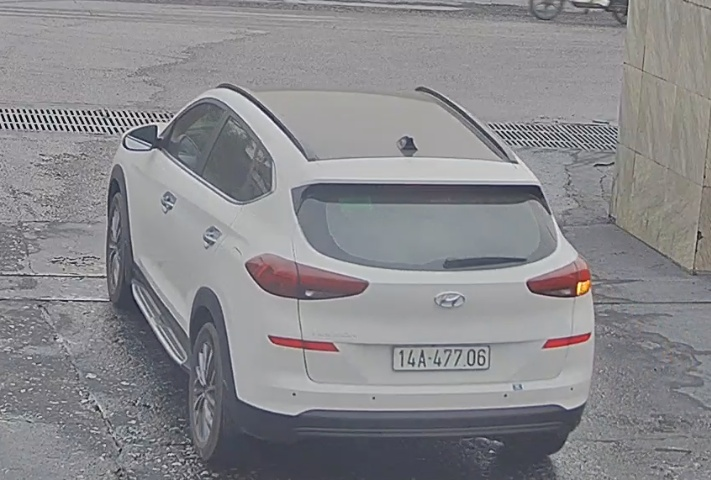vehicle plate: (386, 340, 495, 374)
